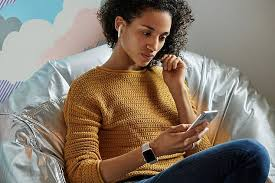earphone: (114, 16, 126, 38)
